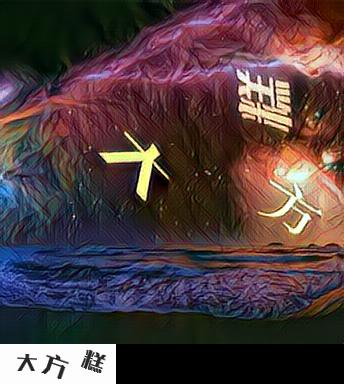character: (96, 128, 174, 206), (254, 173, 327, 240), (233, 64, 298, 137)
